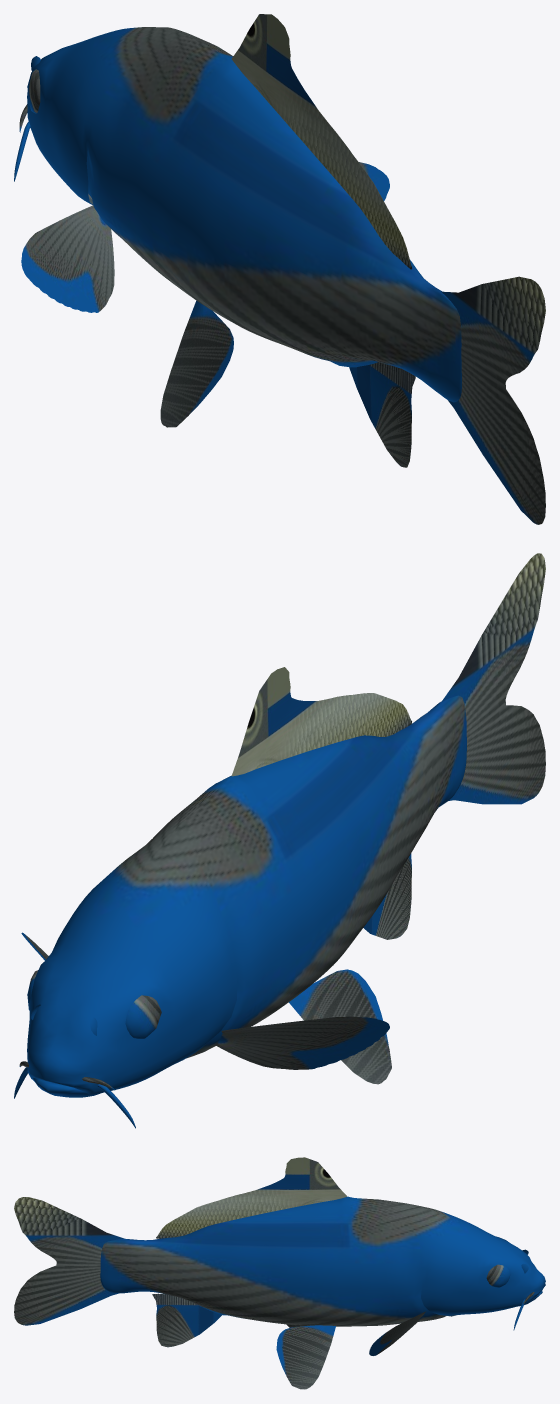
The model's file is _fish.obj.
3 views of the same model, one above another, from view 1: azimuth 30°, elevation 25°; view 2: azimuth 150°, elevation 25°; view 3: azimuth 270°, elevation 25° (orthographic). The views are drawn at different scales.
Parts seen in each view (by area): view 1: FHMJ33W5F1C9R0CK3PZT6FNNE; view 2: FHMJ33W5F1C9R0CK3PZT6FNNE; view 3: FHMJ33W5F1C9R0CK3PZT6FNNE.
Boxes of the visible parts, left/top/right/bottom form: FHMJ33W5F1C9R0CK3PZT6FNNE: left=14, top=14, right=545, bottom=524; FHMJ33W5F1C9R0CK3PZT6FNNE: left=14, top=553, right=545, bottom=1128; FHMJ33W5F1C9R0CK3PZT6FNNE: left=14, top=1157, right=545, bottom=1389.
Bounding box in the file's own units: 1.06 × 1.06 × 2.5.
